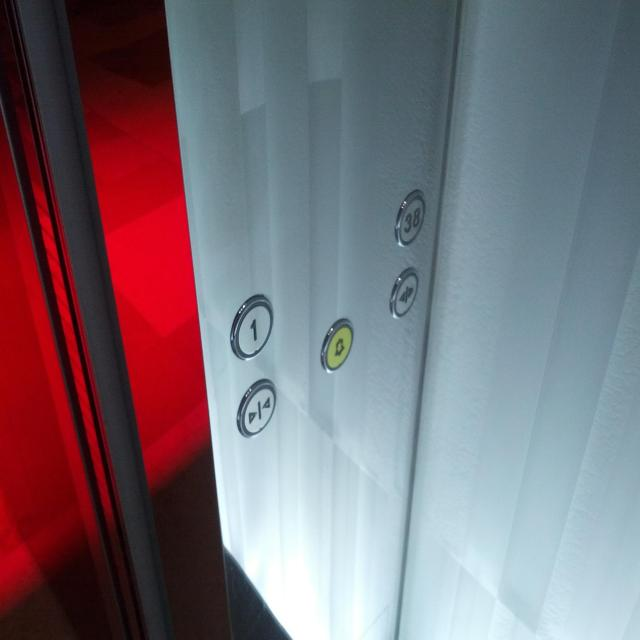1: (230, 292, 274, 361)
38: (395, 189, 425, 247)
alarm: (320, 317, 354, 374)
close: (236, 379, 276, 438)
open: (389, 267, 418, 317)
